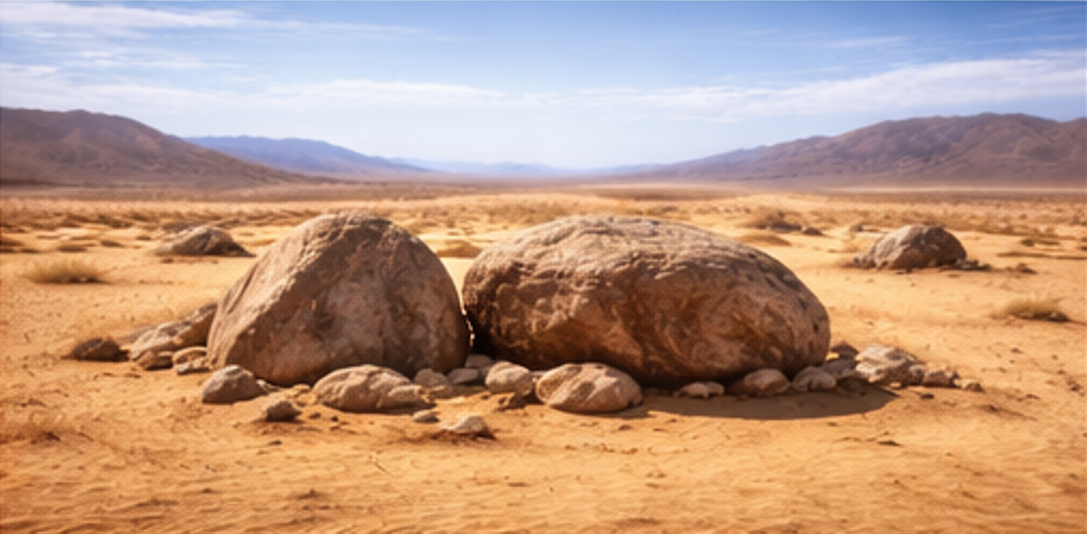rocks: (463, 215, 828, 386), (207, 213, 467, 383), (129, 304, 215, 367), (534, 364, 641, 412), (313, 364, 427, 409), (854, 225, 965, 269), (153, 225, 250, 255), (854, 345, 920, 383), (202, 364, 264, 402), (728, 368, 788, 395), (65, 335, 127, 361)
